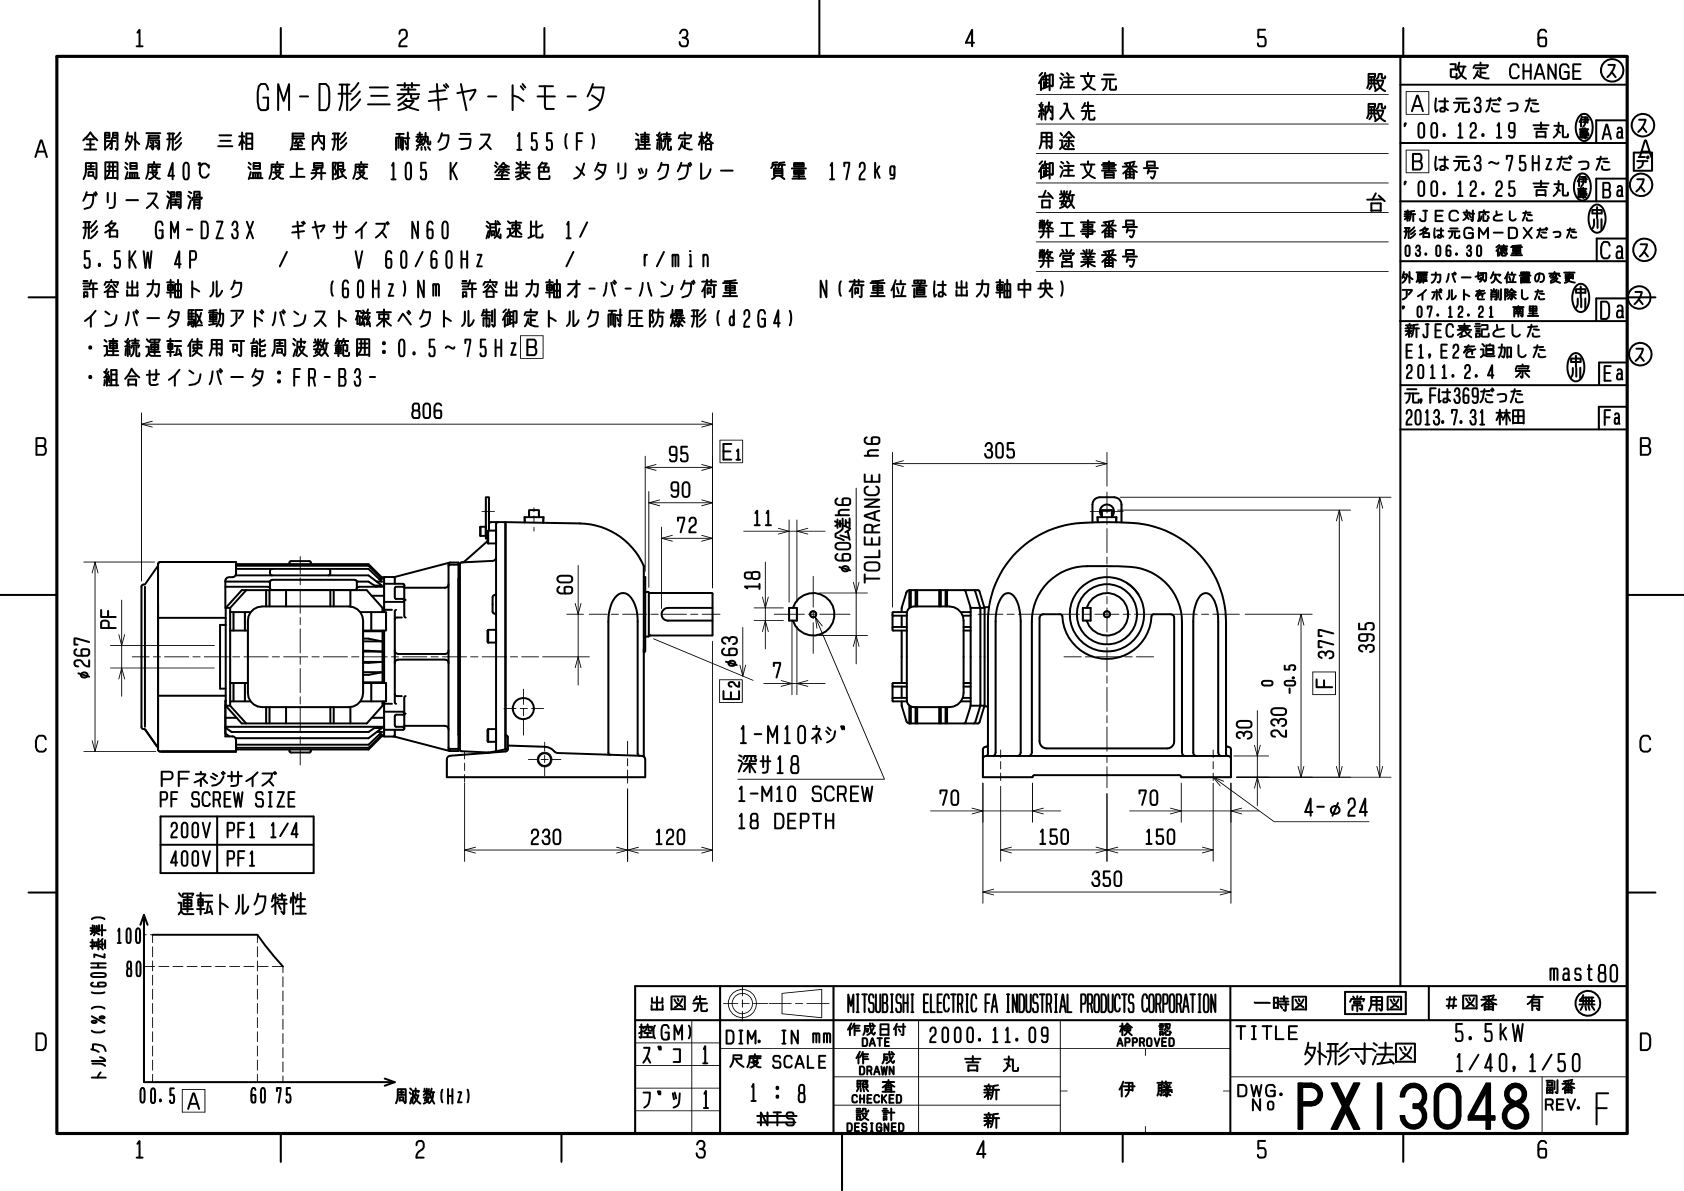GM_D_制御屋内_三相_脚: (67, 396, 1399, 967)
